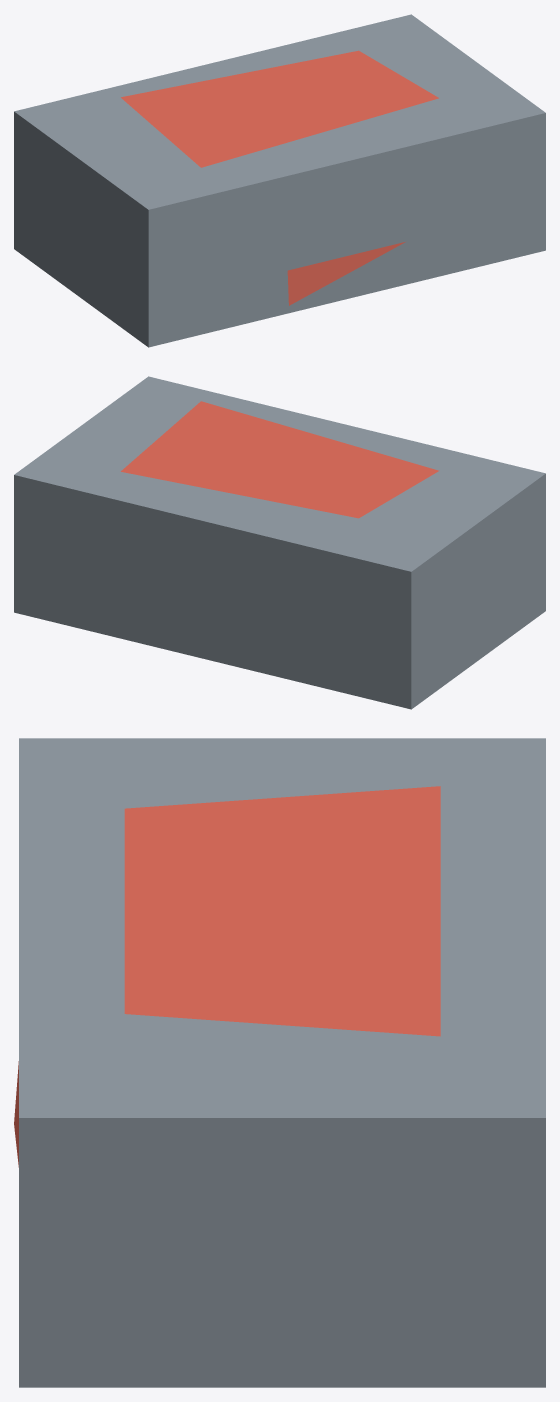
File: SU_GromoboyRam_LOD1.glb
The picture shows the model from 3 angles, top to bottom: view 1: azimuth 30°, elevation 25°; view 2: azimuth 150°, elevation 25°; view 3: azimuth 270°, elevation 25°; orthographic projection. The views are drawn at different scales.
Visible parts, largest first — view 1: EntranceGate; view 2: EntranceGate; view 3: EntranceGate.
Boxes of the visible parts, <box> form: EntranceGate: <box>14,14,545,347</box>; EntranceGate: <box>14,376,545,709</box>; EntranceGate: <box>14,738,545,1387</box>.
Bounding box in the file's own units: 580 × 212 × 343.
